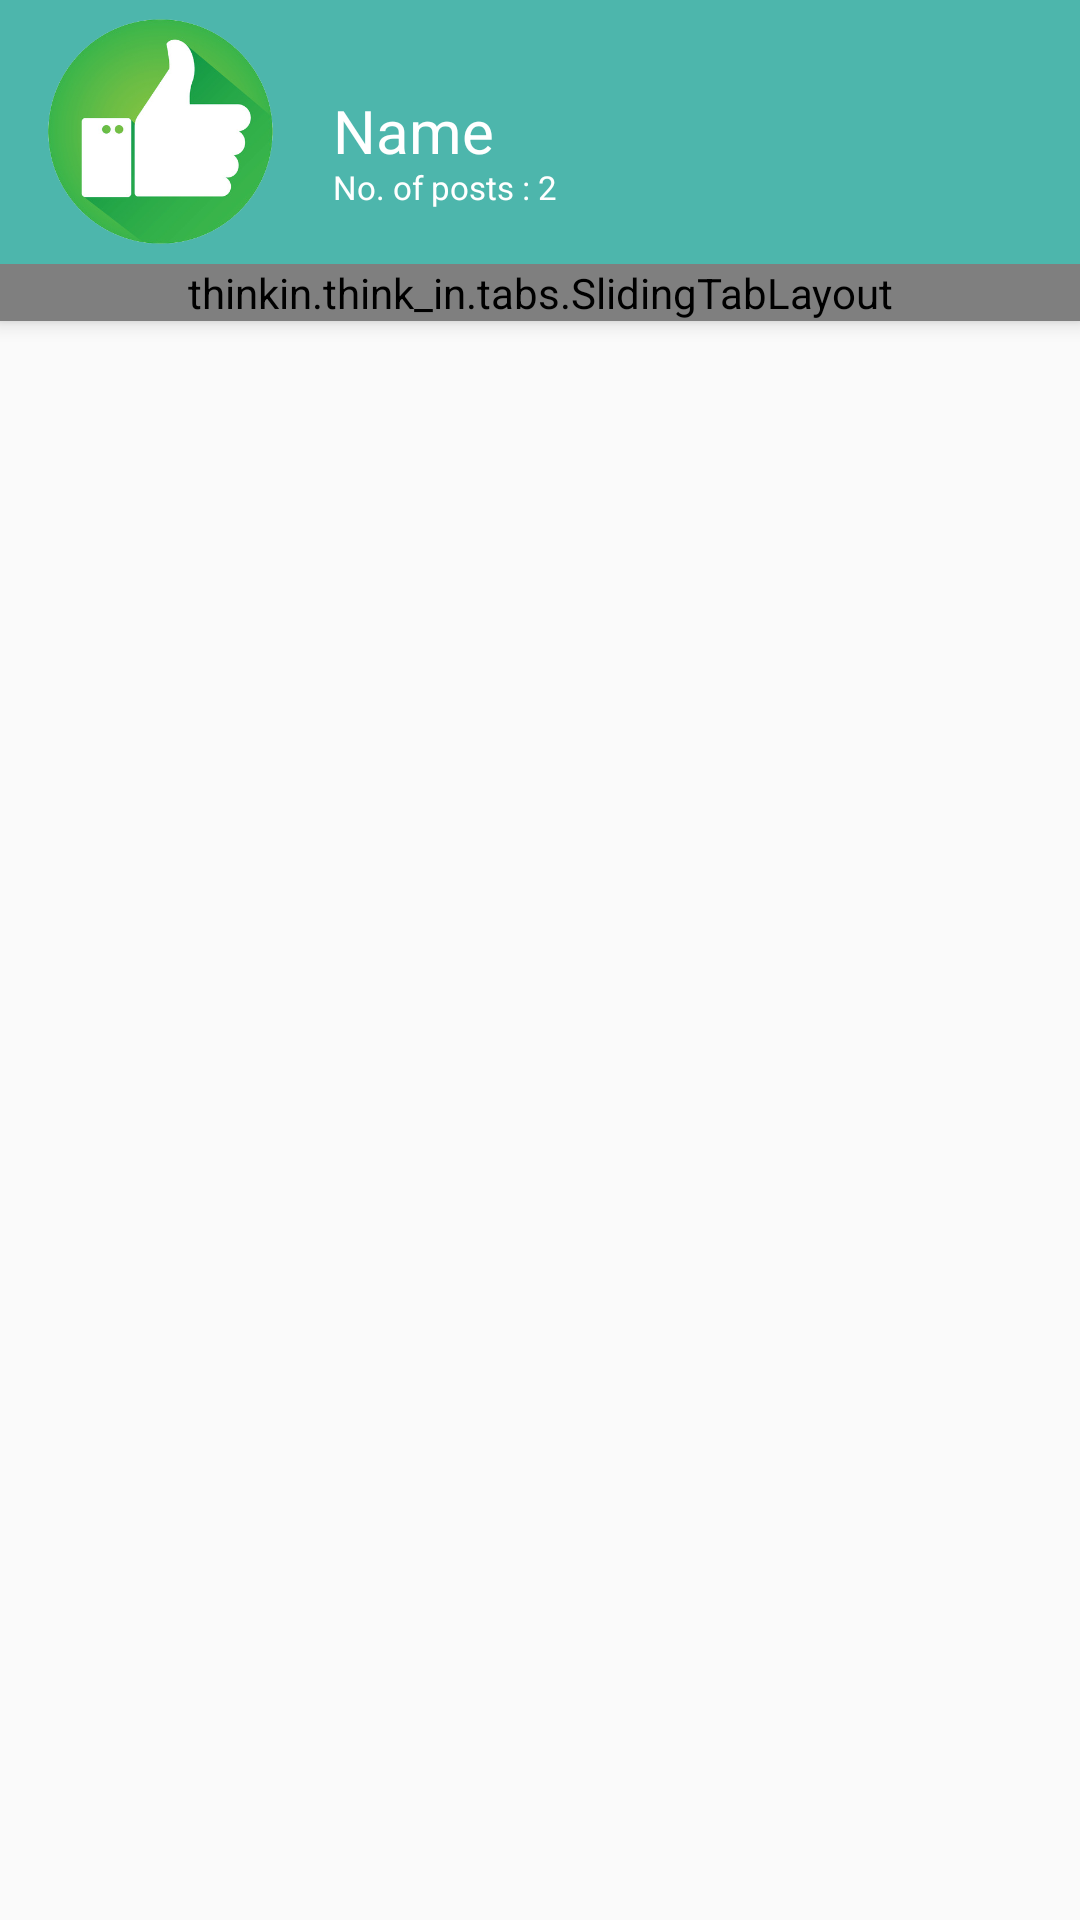

Locate icon controls on the screen. Image size 1080×1920, boxes as [x1=x1, y1=y1, x2=x2, y2=y2].
like: [x1=48, y1=19, x2=273, y2=244]
